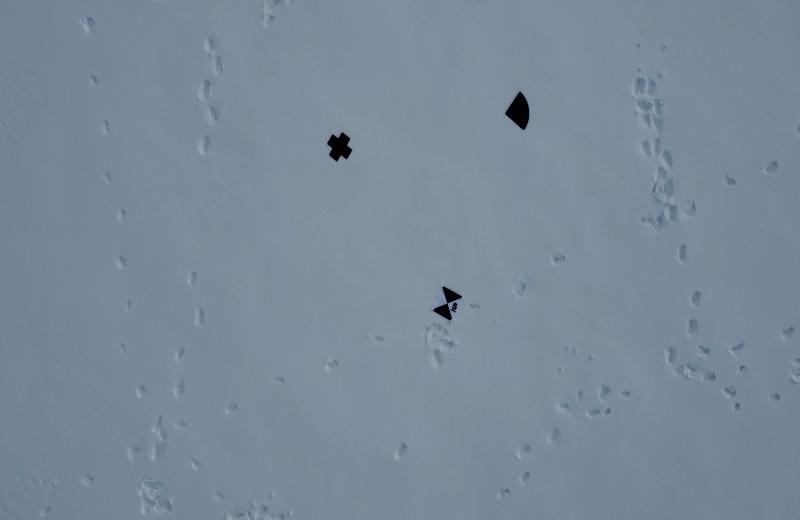Cross: (322, 129, 358, 165)
Quarter Circle: (498, 87, 535, 136)
